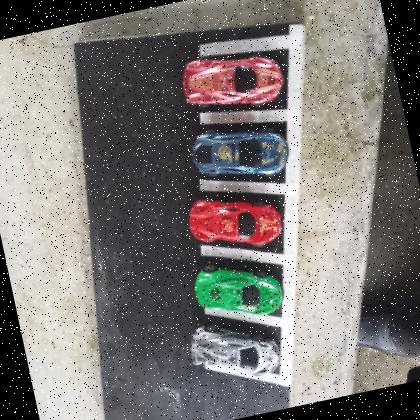Car: (179, 43, 289, 120), (184, 311, 286, 391), (184, 182, 288, 260), (188, 117, 294, 190), (192, 252, 288, 328)
